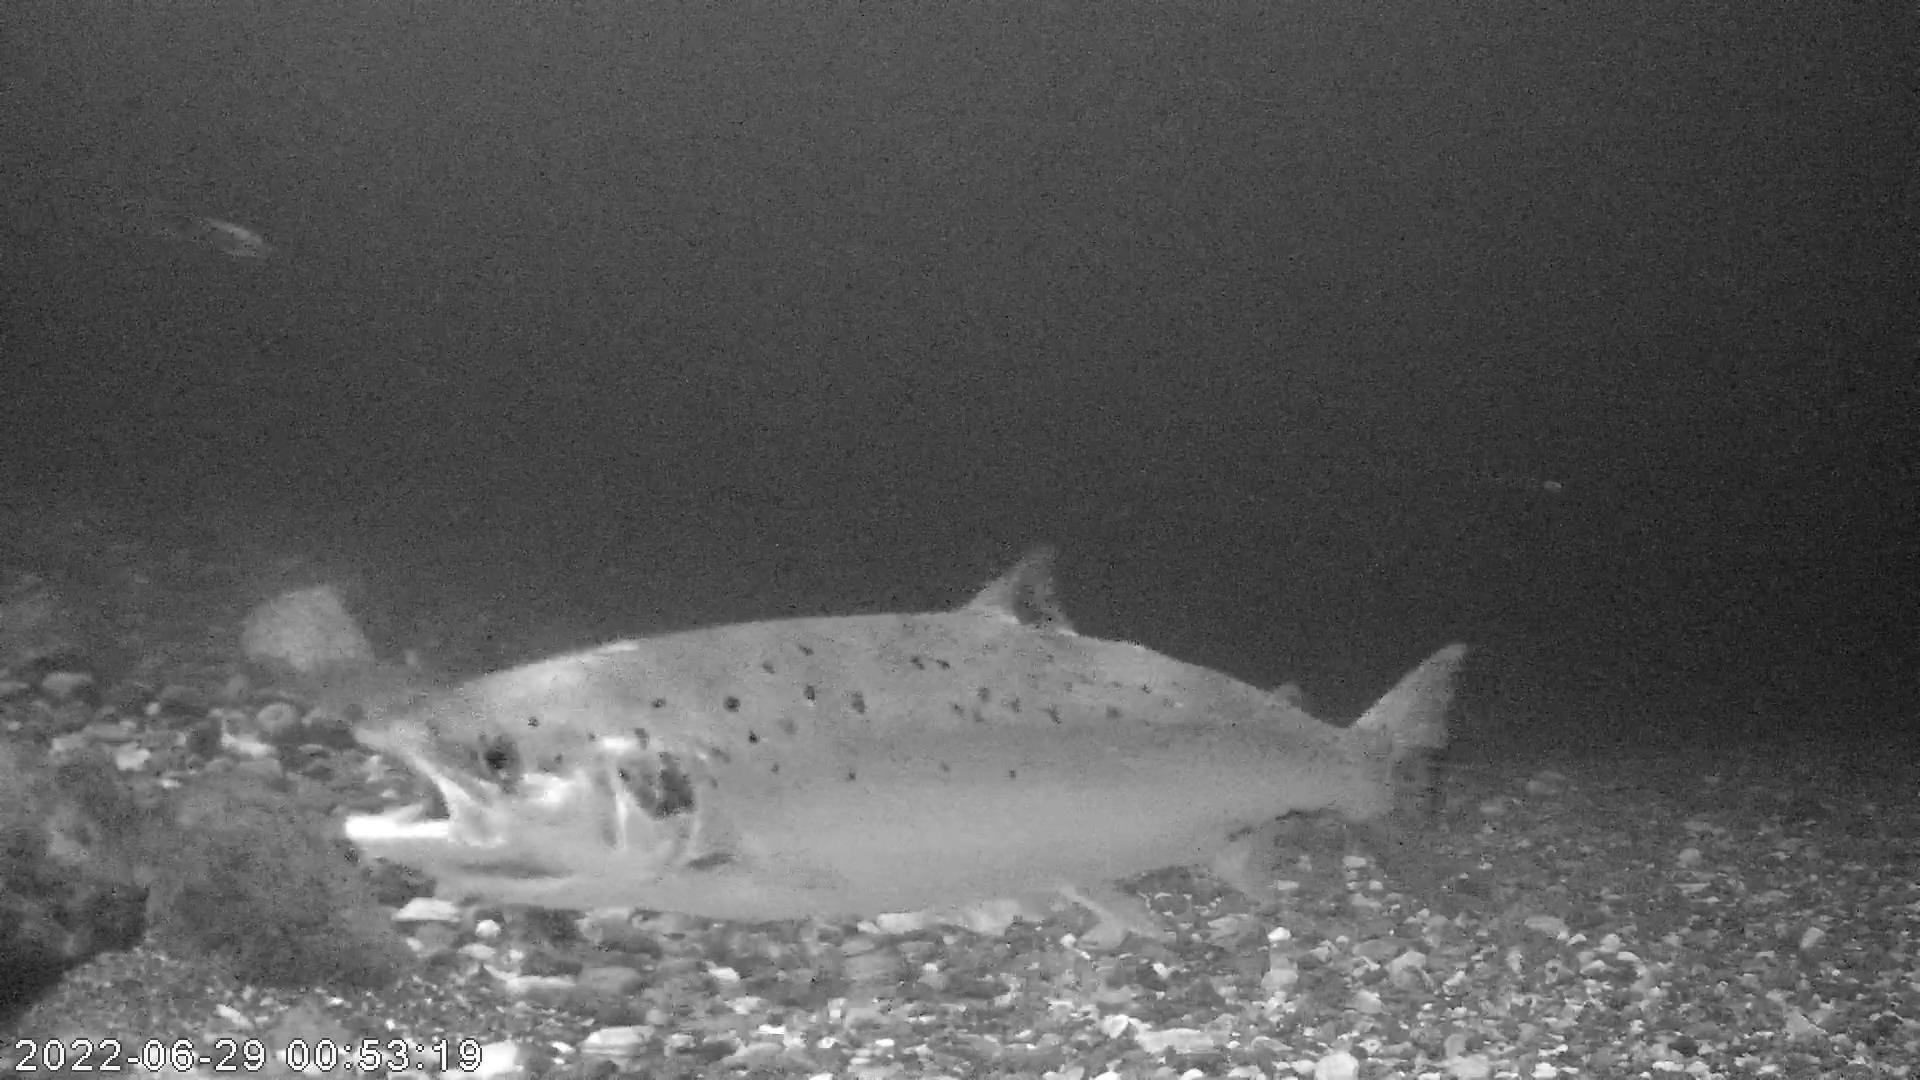salmon: (332, 531, 1473, 939)
